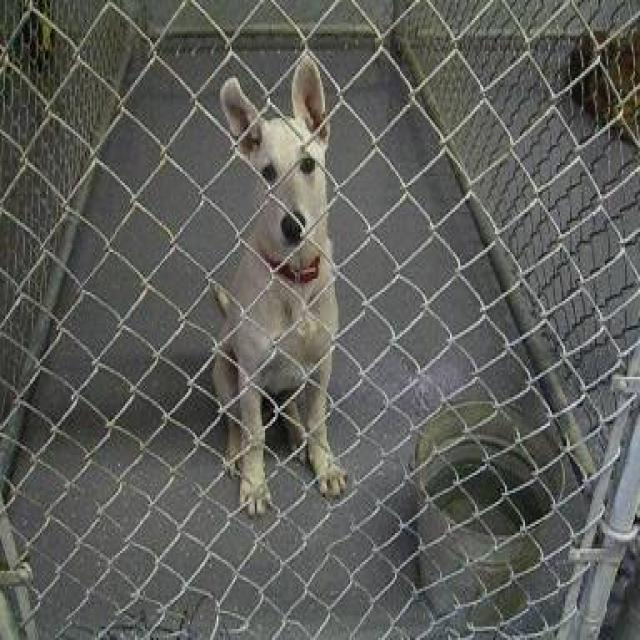dog: (208, 49, 348, 517)
